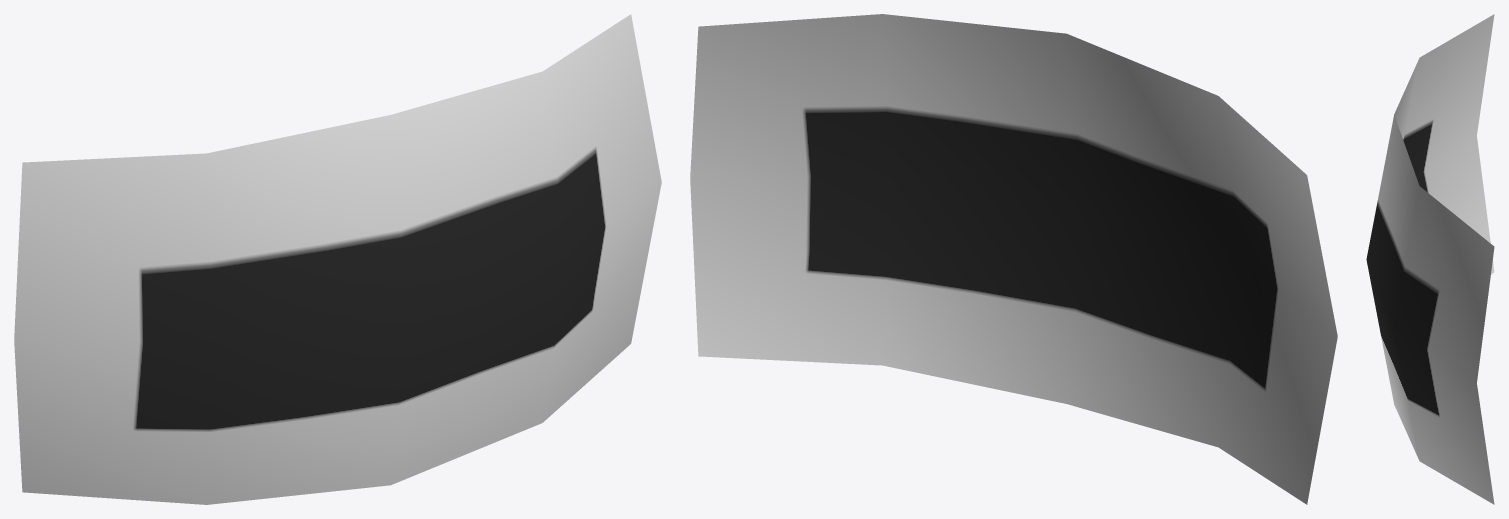
Rendered from eye13.fbx.
3 renders of one model, left to right at view 1: azimuth 30°, elevation 25°; view 2: azimuth 150°, elevation 25°; view 3: azimuth 270°, elevation 25°, orthographic. The views are drawn at different scales.
Visible parts, largest first — view 1: Cube.020; view 2: Cube.020; view 3: Cube.020.
Boxes of the visible parts, box(x1,y1,x2,y2) form: Cube.020: box(14, 14, 661, 504); Cube.020: box(690, 14, 1337, 504); Cube.020: box(1366, 14, 1494, 504).
Bounding box in the file's own units: 43.42 × 199 × 109.
